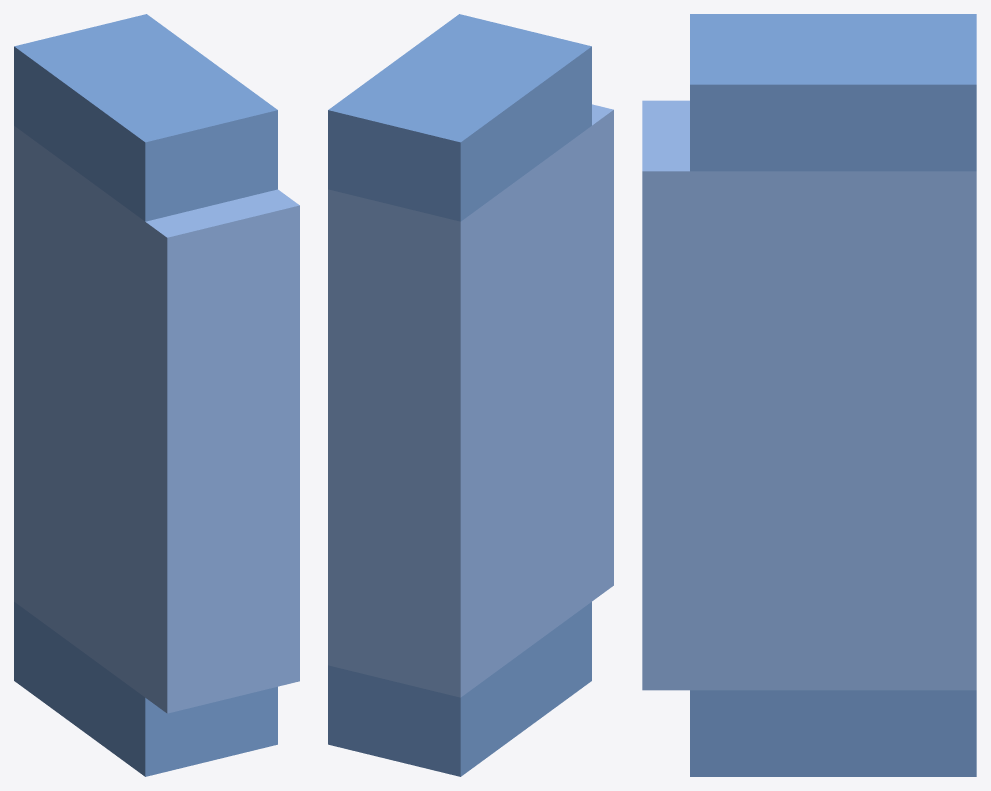
3 views of the same model, side by side, from view 1: azimuth 30°, elevation 25°; view 2: azimuth 150°, elevation 25°; view 3: azimuth 270°, elevation 25° (orthographic). The views are drawn at different scales.
Parts seen in each view (by area): view 1: model_1_NOSIMPLIFY; view 2: model_1_NOSIMPLIFY; view 3: model_1_NOSIMPLIFY.
Part boxes in pixels (x1,y1,x2,y2): model_1_NOSIMPLIFY: (14,14,299,776); model_1_NOSIMPLIFY: (328,14,613,776); model_1_NOSIMPLIFY: (642,14,976,776).
Bounding box in the file's own units: 0.07 × 0.32 × 0.14.
